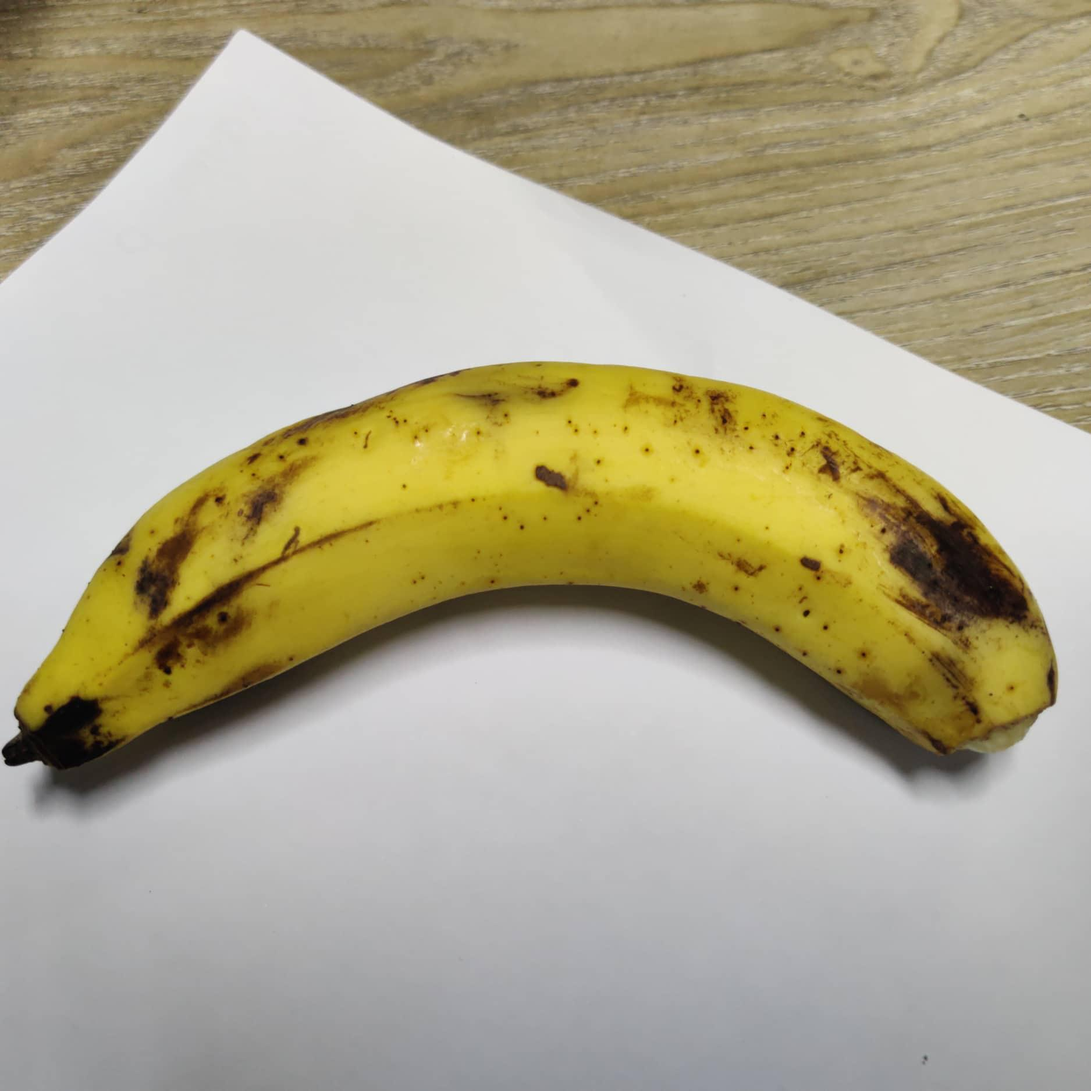Banana Ripe: (2, 329, 1091, 879)
